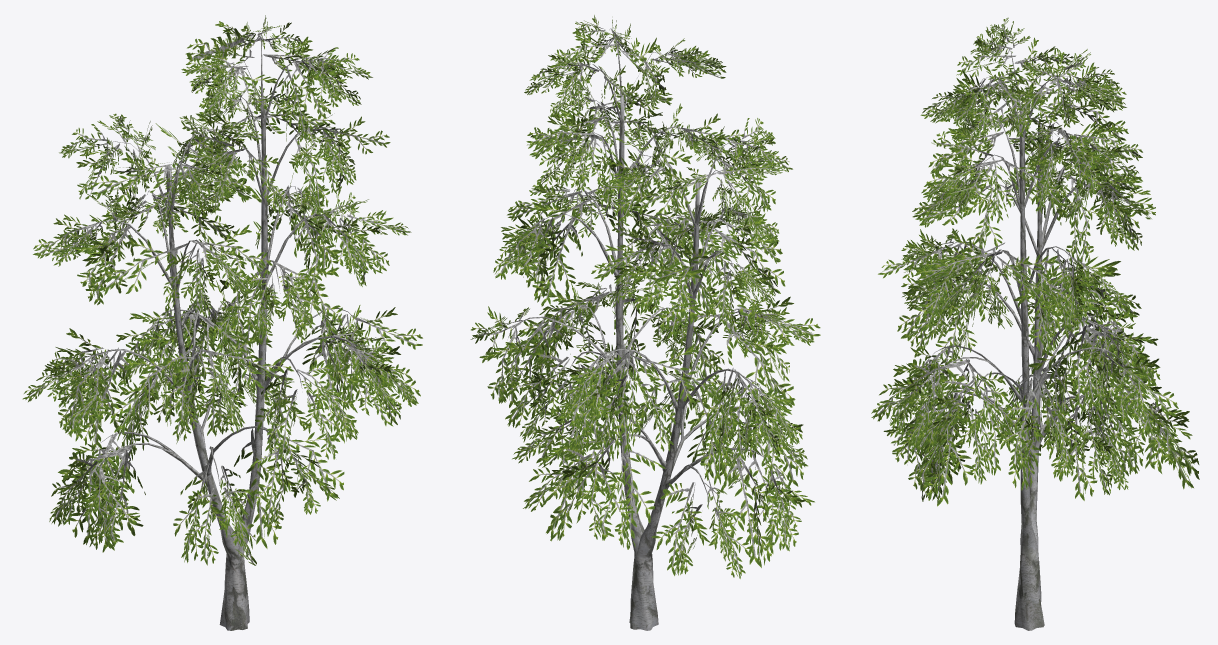
File: betula.gltf
3 views of the same model, side by side, from view 1: azimuth 30°, elevation 25°; view 2: azimuth 150°, elevation 25°; view 3: azimuth 270°, elevation 25° (orthographic).
Visible parts, largest first — view 1: betula; view 2: betula; view 3: betula.
Part boxes in pixels (x1,y1,x2,y2): betula: [22, 15, 422, 630]; betula: [470, 15, 820, 630]; betula: [871, 17, 1199, 630].
Size of the model in its own units: 8.68 by 13.13 by 6.9.
Materials: 2 (2 with a texture image).
